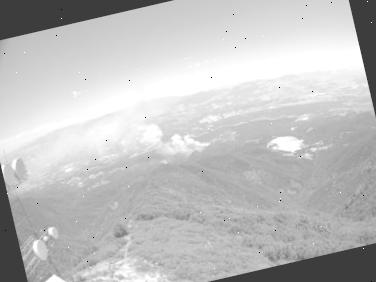smoke: (55, 86, 211, 182)
